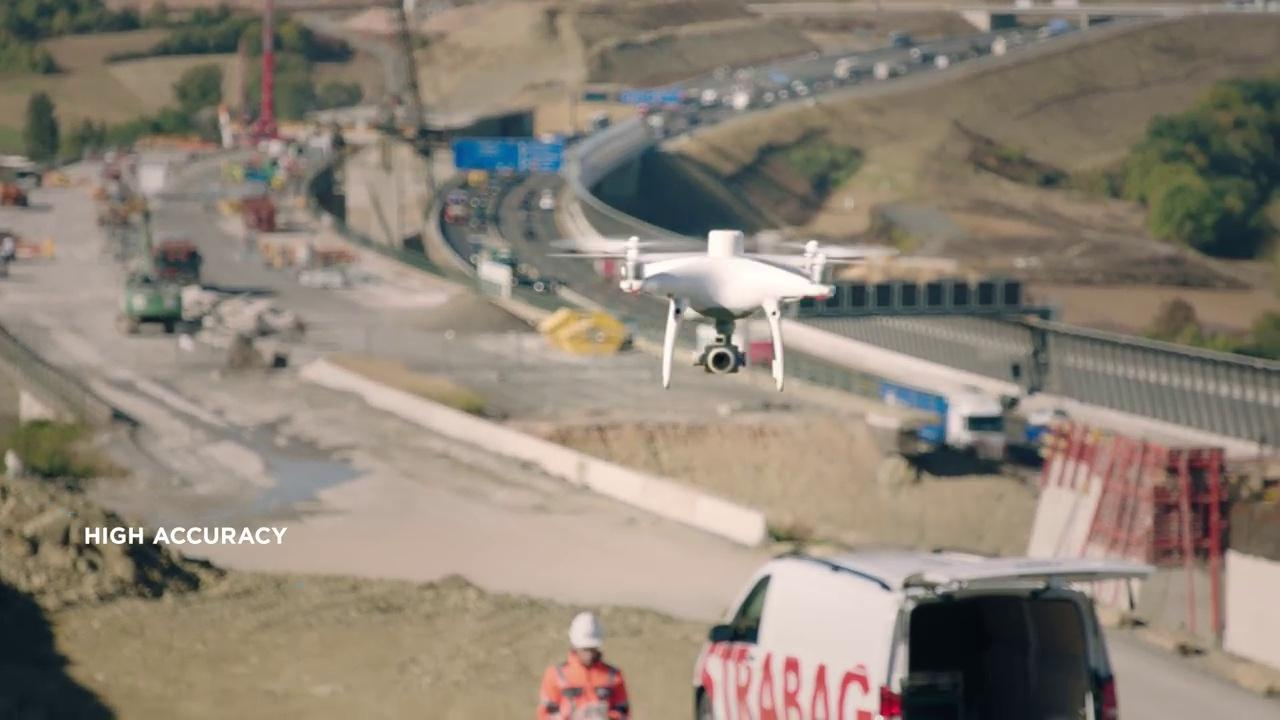drone: (553, 222, 903, 394)
